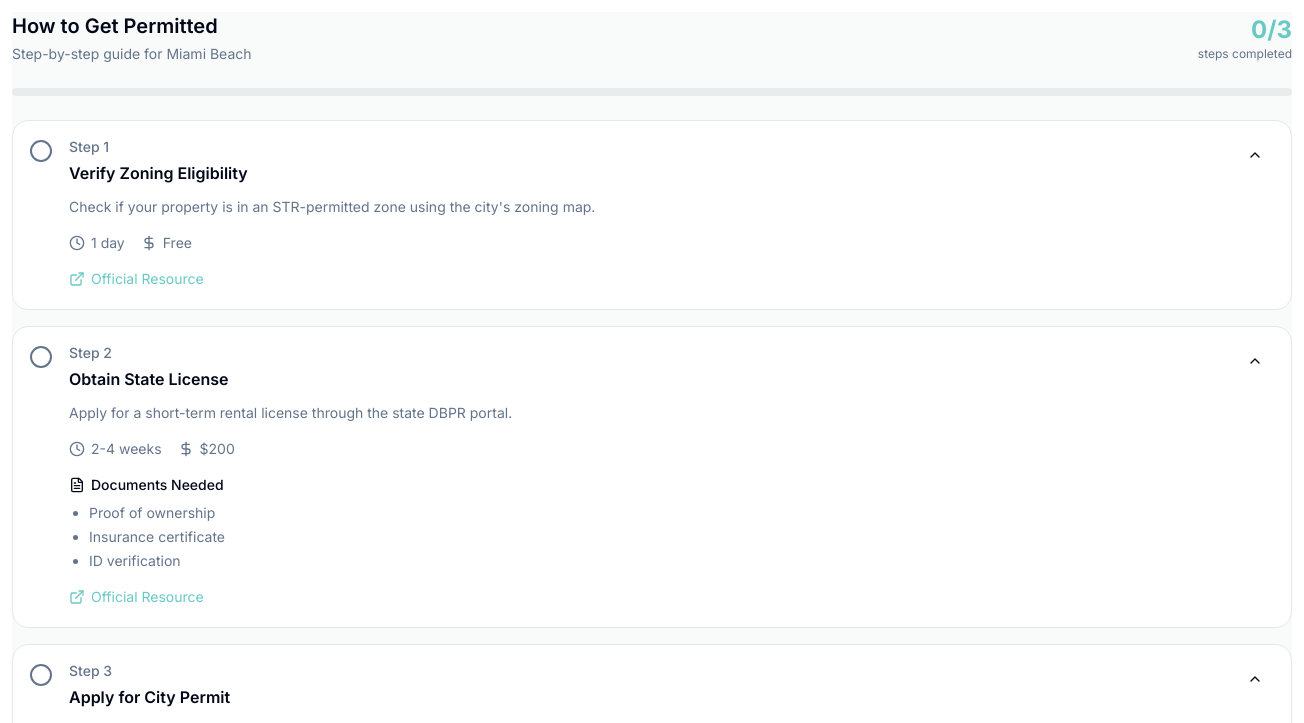
ApplicationSteps component › completion tracking › toggles step completion on click
Click the 1st button named "mark as complete": (41, 151) [29,139,53,163]
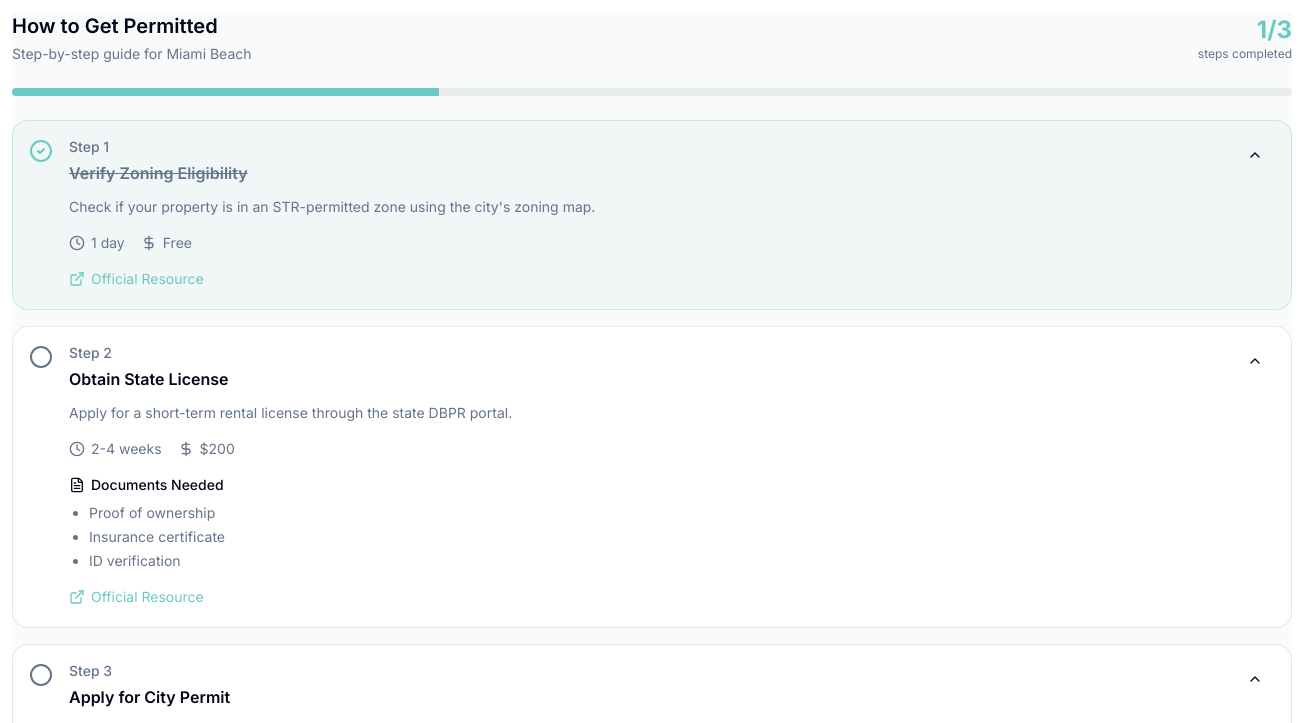
Check: the text "1/3" is shown, box [1257,15,1292,44]
